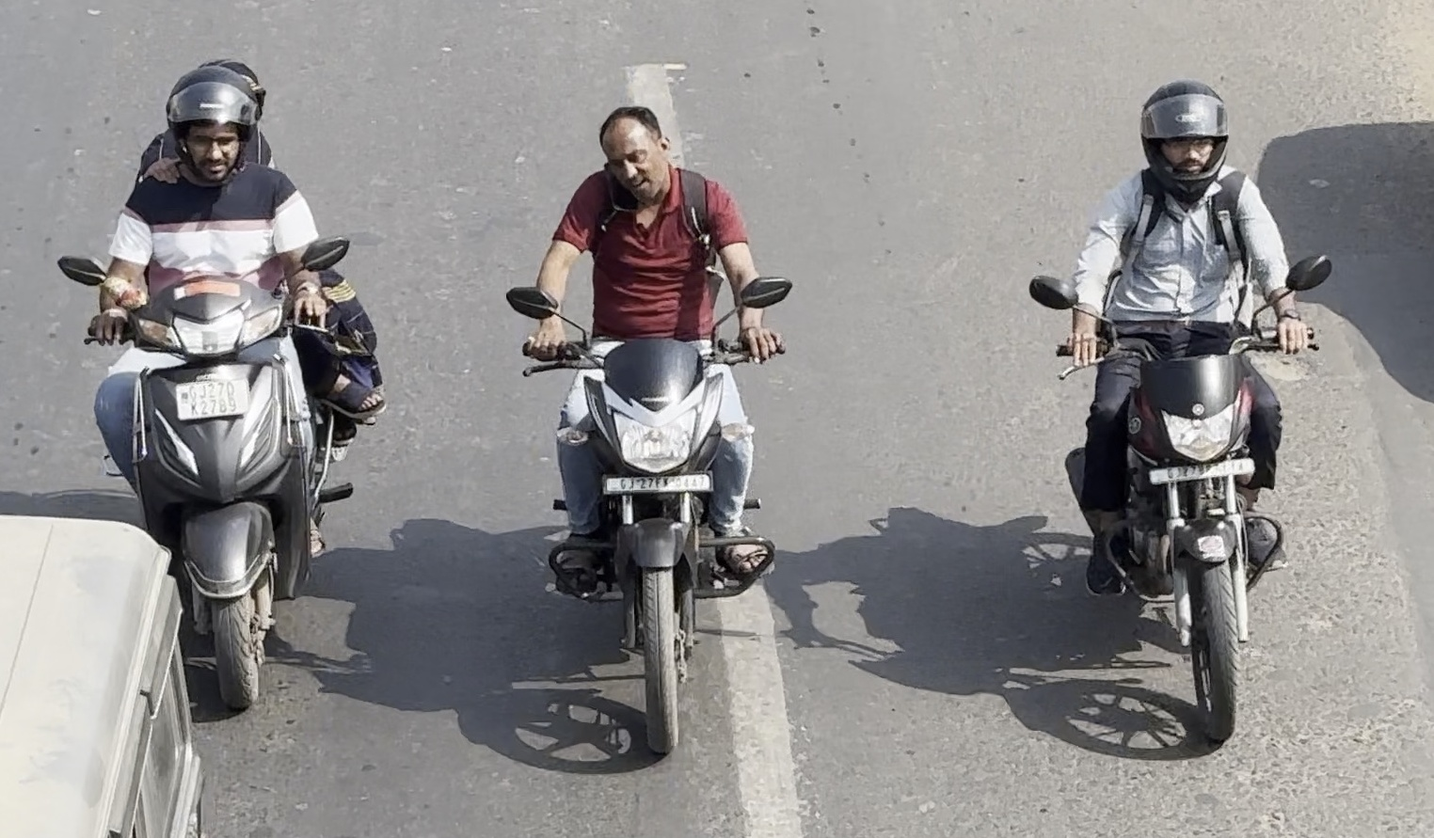BikeWithRider: (50, 51, 400, 724), (1014, 67, 1351, 756), (490, 97, 805, 765)
Helmet: (1124, 70, 1243, 202), (155, 63, 264, 190)
NoHelmet: (586, 102, 686, 207), (192, 53, 267, 142)
